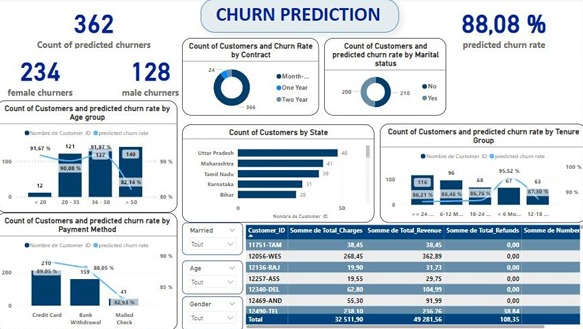

The page's visual inventory and layout, read from the dashboard file:
{"tool":"powerbi","page":{"name":"Page 2","canvas":[1280,720],"ordinal":1},"visuals":[{"type":"card","fields":{"Values":["my measures.predicted churn rate"]},"box":[923.3,0,356.7,120],"z":0},{"type":"tableEx","fields":{"Values":["predictions.Customer_ID","Sum(predictions.Total_Charges)","Sum(predictions.Total_Revenue)","Sum(predictions.Total_Refunds)","Sum(predictions.Number_of_Referrals)"]},"box":[535,485,745,235],"z":1000},{"type":"card","fields":{"Values":["my measures.Count of predicted churning Customers"]},"box":[0,0,423.3,120],"z":2000},{"type":"card","fields":{"Values":["my measures.Count of predicted churning Customers"]},"box":[0,108.3,190,111.7],"z":3000},{"type":"card","fields":{"Values":["my measures.Count of predicted churning Customers"]},"box":[246.7,108.3,176.7,111.7],"z":4000},{"type":"lineStackedColumnComboChart","title":"Count of Customers and predicted churn rate by Age group","fields":{"Category":["mapping age groups.Age group"],"Y":["CountNonNull(predictions.Customer_ID)"],"Y2":["my measures.predicted churn rate"]},"box":[0,220,393.3,243.3],"z":5000},{"type":"donutChart","title":"Count of Customers and predicted churn rate by Marital status","fields":{"Category":["predictions.Married"],"Y":["CountNonNull(predictions.Customer_ID)"]},"box":[711.7,85,265,168.3],"z":6000},{"type":"lineStackedColumnComboChart","title":"Count of Customers and predicted churn rate by Tenure Group ","fields":{"Y":["CountNonNull(predictions.Customer_ID)"],"Y2":["my measures.predicted churn rate"],"Category":["mapping_TenureGrp.Tenure Group "]},"box":[831.7,270,448.3,215],"z":7000},{"type":"lineStackedColumnComboChart","title":"Count of Customers and predicted churn rate by Payment Method","fields":{"Y":["CountNonNull(predictions.Customer_ID)"],"Y2":["my measures.predicted churn rate"],"Category":["predictions.Payment_Method"]},"box":[0,463.3,393.3,256.7],"z":8000},{"type":"donutChart","title":"Count of Customers and Churn Rate by Contract","fields":{"Category":["predictions.Contract"],"Y":["CountNonNull(predictions.Customer_ID)"]},"box":[403.3,85,296.7,168.3],"z":9000},{"type":"barChart","title":"Count of Customers by State","fields":{"Category":["predictions.State"],"Y":["CountNonNull(predictions.Customer_ID)"]},"box":[403.3,271.7,416.7,213.3],"z":10000},{"type":"textbox","box":[443.3,0,430,73.3],"z":11000},{"type":"slicer","fields":{"Values":["predictions.Gender"]},"box":[403.3,566.7,131.7,73.3],"z":12000},{"type":"slicer","fields":{"Values":["predictions.Married"]},"box":[403.3,485,131.7,70],"z":13000},{"type":"slicer","fields":{"Values":["predictions.Age"]},"box":[403.3,645,131.7,75],"z":14000}]}

Visuals, with their boxes in screenshot pixels (x1, y1, x2, y2), scaled from the page's 1280x720 canvas onto the 583x329 screenshot:
card - my measures.predicted churn rate: pyautogui.locateOnScreen(421, 0, 582, 55)
tableEx - predictions.Customer_ID x Sum(predictions.Total_Charges): pyautogui.locateOnScreen(244, 222, 582, 328)
card - my measures.Count of predicted churning Customers: pyautogui.locateOnScreen(0, 0, 193, 55)
card - my measures.Count of predicted churning Customers: pyautogui.locateOnScreen(0, 49, 87, 101)
card - my measures.Count of predicted churning Customers: pyautogui.locateOnScreen(112, 49, 193, 101)
"Count of Customers and predicted churn rate by Age group" lineStackedColumnComboChart: pyautogui.locateOnScreen(0, 101, 179, 212)
"Count of Customers and predicted churn rate by Marital status" donutChart: pyautogui.locateOnScreen(324, 39, 445, 116)
"Count of Customers and predicted churn rate by Tenure Group " lineStackedColumnComboChart: pyautogui.locateOnScreen(379, 123, 582, 222)
"Count of Customers and predicted churn rate by Payment Method" lineStackedColumnComboChart: pyautogui.locateOnScreen(0, 212, 179, 328)
"Count of Customers and Churn Rate by Contract" donutChart: pyautogui.locateOnScreen(184, 39, 319, 116)
"Count of Customers by State" barChart: pyautogui.locateOnScreen(184, 124, 373, 222)
textbox: pyautogui.locateOnScreen(202, 0, 398, 33)
slicer - predictions.Gender: pyautogui.locateOnScreen(184, 259, 244, 292)
slicer - predictions.Married: pyautogui.locateOnScreen(184, 222, 244, 254)
slicer - predictions.Age: pyautogui.locateOnScreen(184, 295, 244, 328)
